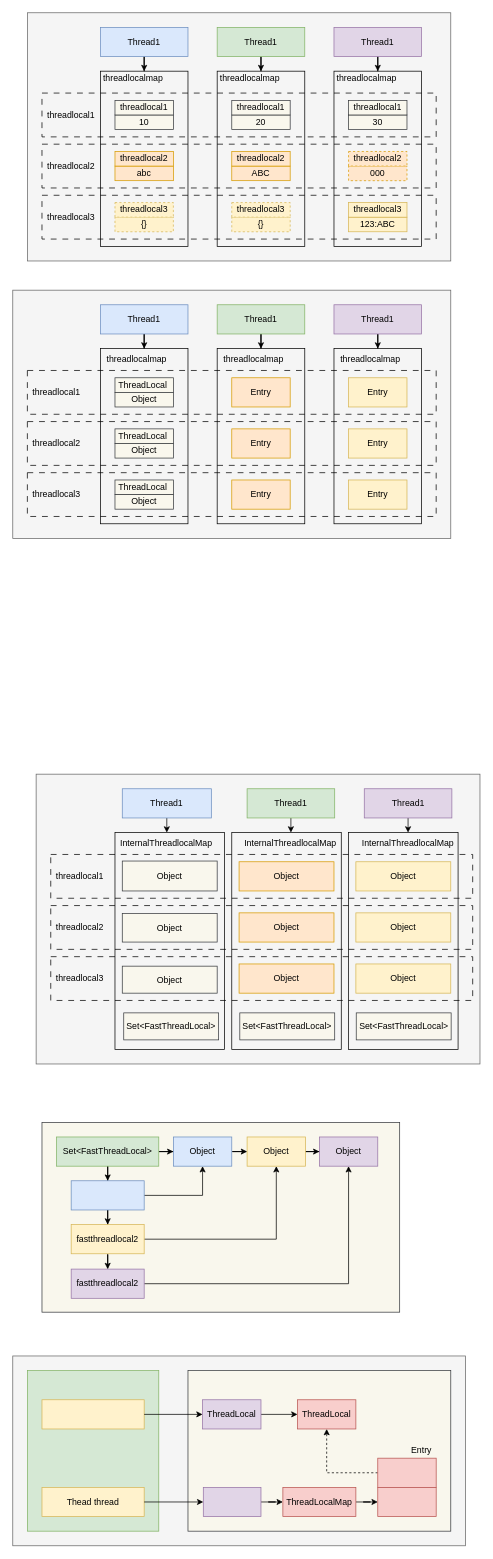
The diagram is 493 pixels wide and 1559 high, and some of its shapes have lost their labels. Each missing label, with the centre of its shape:
"fastthreadlocal1" goes at pixel 107 1195.
"Key" goes at pixel 406 1472.
"TheadLocal threadlocal" goes at pixel 92 1414.
"Thread" goes at pixel 232 1502.
"Value" goes at pixel 406 1502.
